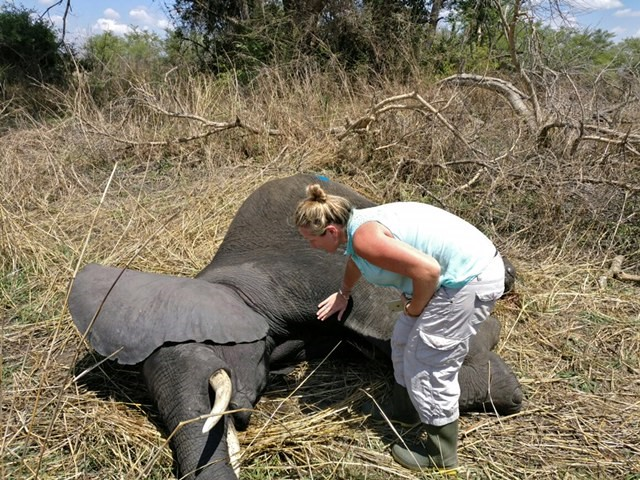elephant: (52, 160, 544, 480)
